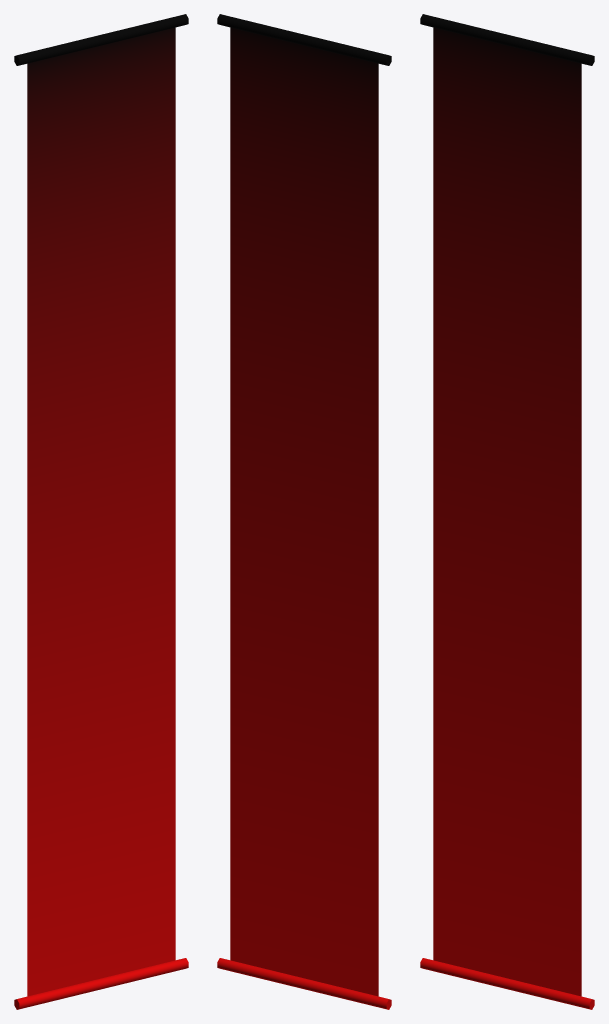
File: fb_prop_tishibei_02.FBX
3 views of the same model, side by side, from view 1: azimuth 30°, elevation 25°; view 2: azimuth 150°, elevation 25°; view 3: azimuth 330°, elevation 25° (orthographic).
Visible parts, largest first — view 1: mt_prop_tishibei_02; view 2: mt_prop_tishibei_02; view 3: mt_prop_tishibei_02.
Boxes of the visible parts, bbox=[...] form: mt_prop_tishibei_02: bbox=[14, 14, 188, 1009]; mt_prop_tishibei_02: bbox=[217, 14, 391, 1009]; mt_prop_tishibei_02: bbox=[420, 14, 594, 1009].
Bounding box in the file's own units: 260 × 1401 × 13.86.
